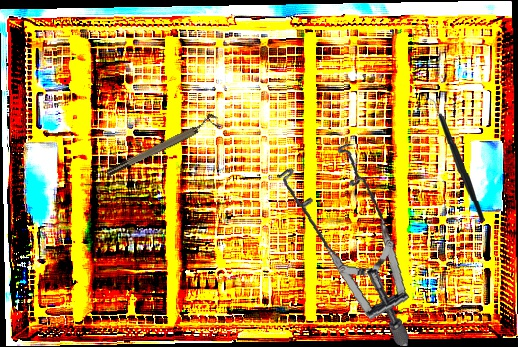Chopper: (423, 94, 486, 223)
Fixation Ring: (102, 111, 222, 179)
Speculum: (258, 135, 432, 347)
